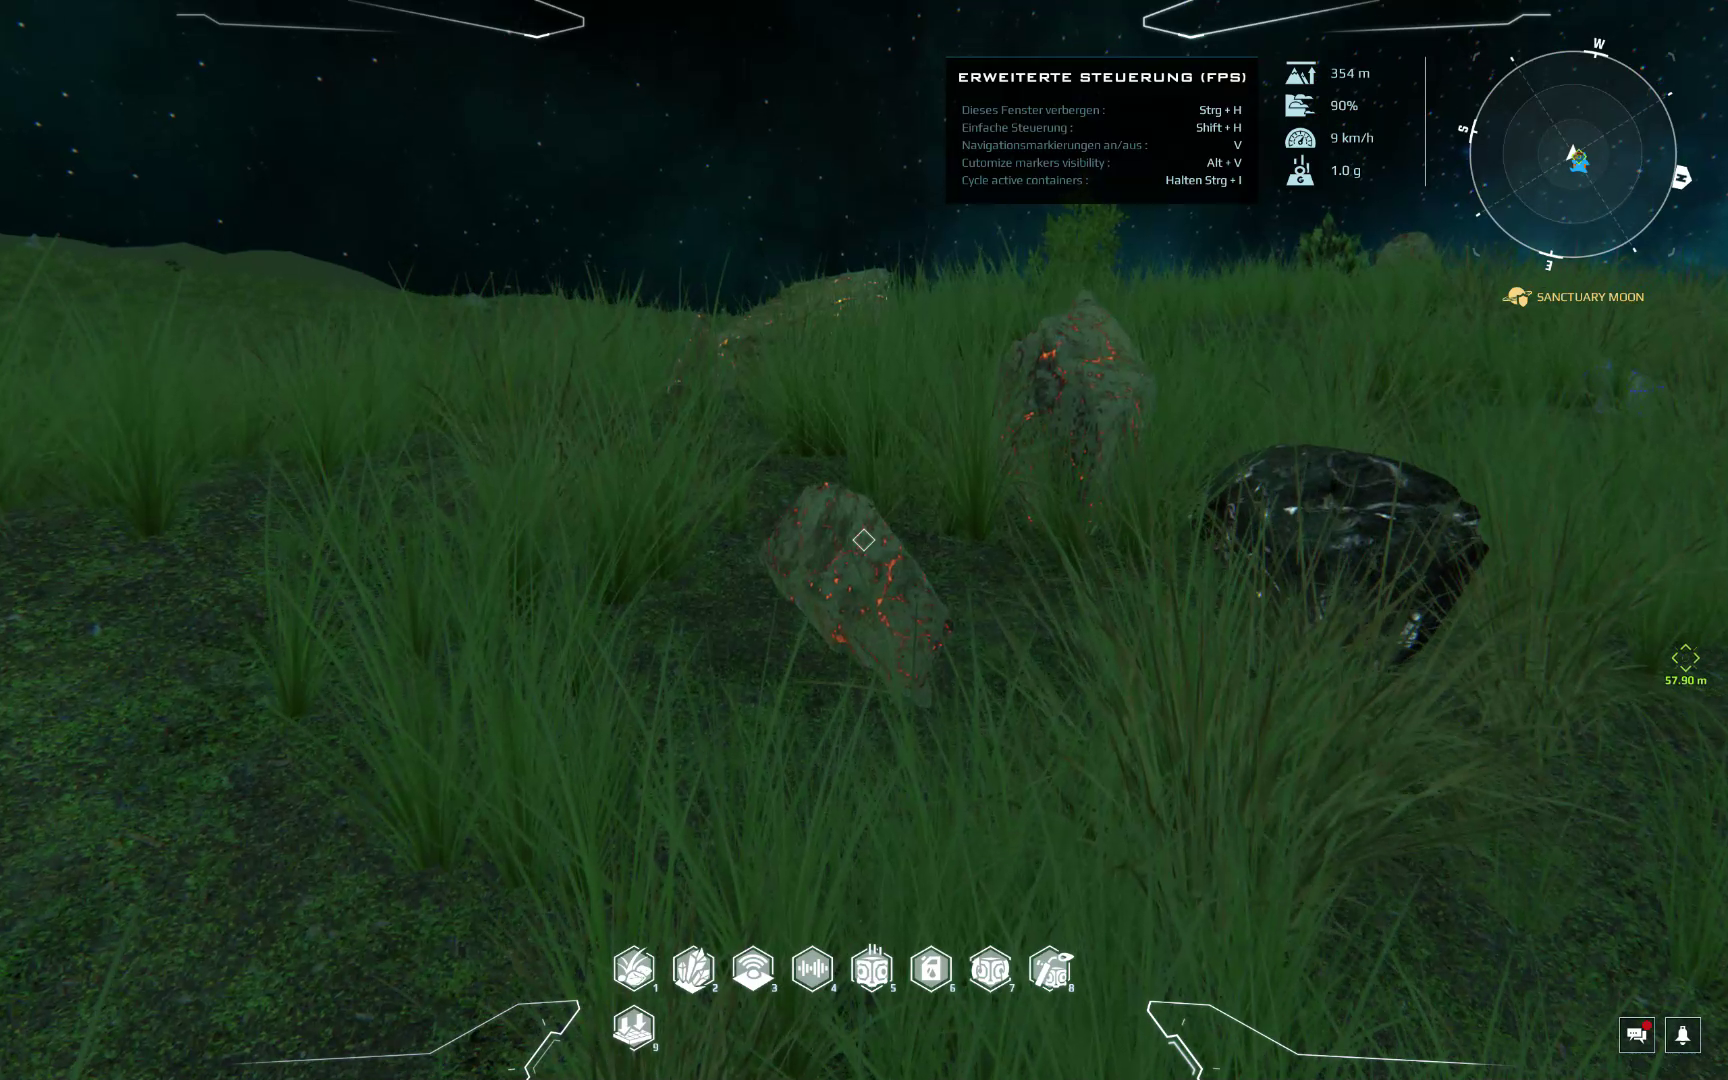Ore: (1205, 444, 1490, 666), (760, 477, 955, 715), (994, 304, 1145, 518), (720, 272, 894, 386), (664, 315, 722, 423)
